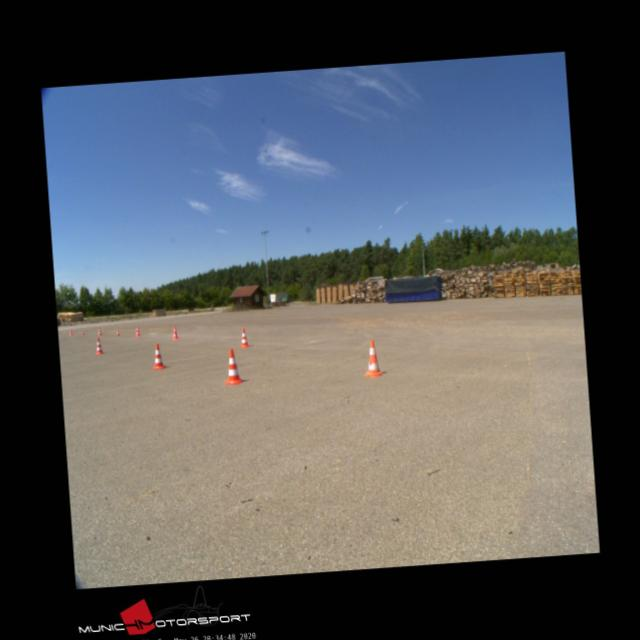large_orange_cone: (361, 338, 382, 377), (222, 348, 243, 384), (151, 343, 164, 368), (238, 328, 250, 348), (93, 338, 105, 354), (170, 325, 178, 338), (134, 325, 140, 336), (96, 326, 102, 336), (68, 328, 72, 334)
orange_cone: (116, 329, 120, 335), (81, 330, 84, 334)
